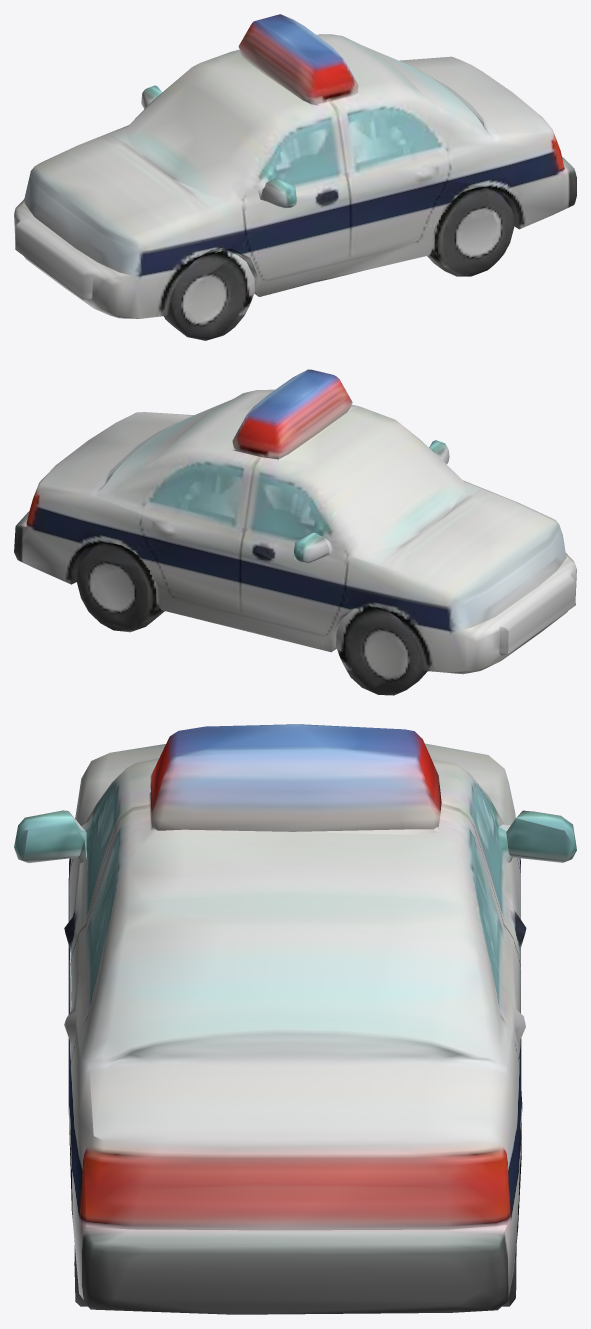
3 views of the same model, one above another, from view 1: azimuth 30°, elevation 25°; view 2: azimuth 150°, elevation 25°; view 3: azimuth 270°, elevation 25° (orthographic). The views are drawn at different scales.
Visible parts, largest first — view 1: Decor_patrol_car; view 2: Decor_patrol_car; view 3: Decor_patrol_car.
Boxes of the visible parts, x1,y1,x2,y2 form: Decor_patrol_car: (14, 14, 576, 340); Decor_patrol_car: (14, 369, 576, 695); Decor_patrol_car: (14, 724, 576, 1314).
Size of the model in its own units: 3.62 by 1.65 by 1.88.
Materials: 1 (1 with a texture image).
